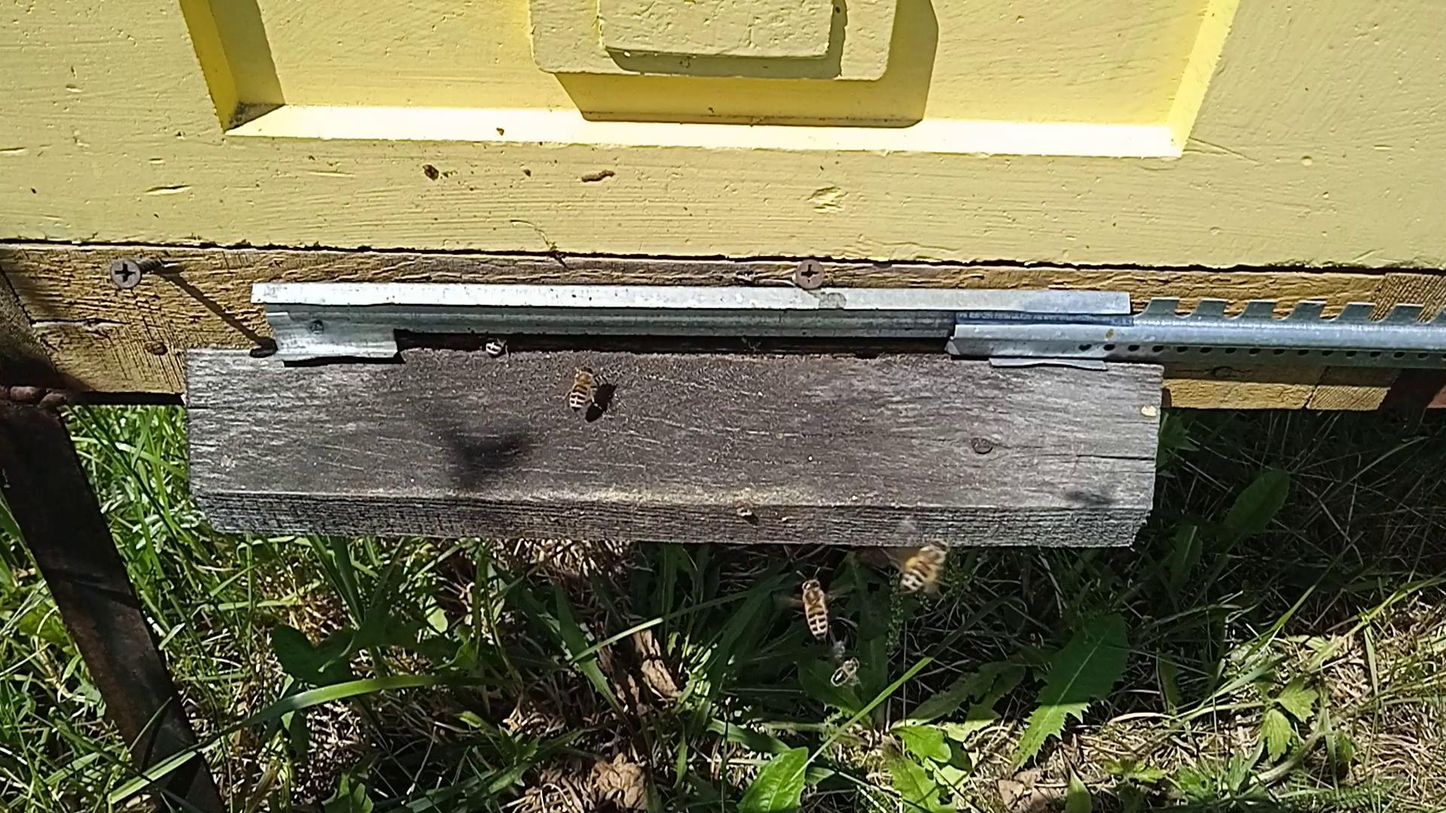worker-bee: (899, 538, 950, 594), (799, 576, 830, 641), (566, 364, 599, 413), (830, 656, 861, 688), (480, 333, 512, 358)
